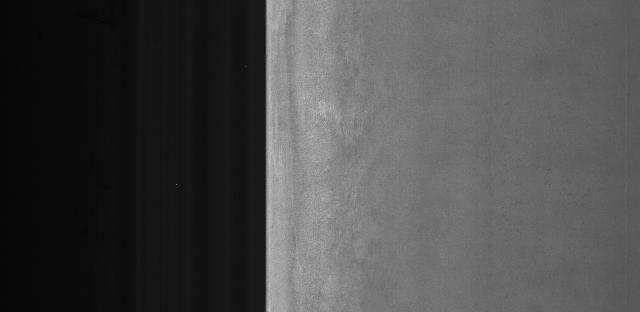silk_spot: (314, 82, 391, 272)
